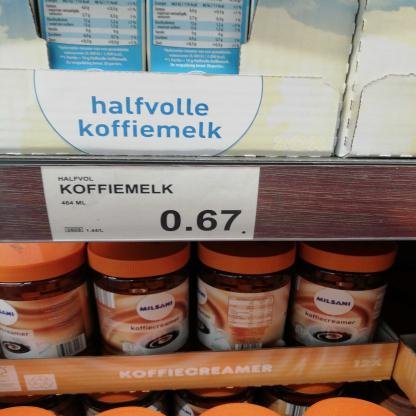prtg: (40, 167, 264, 243)
